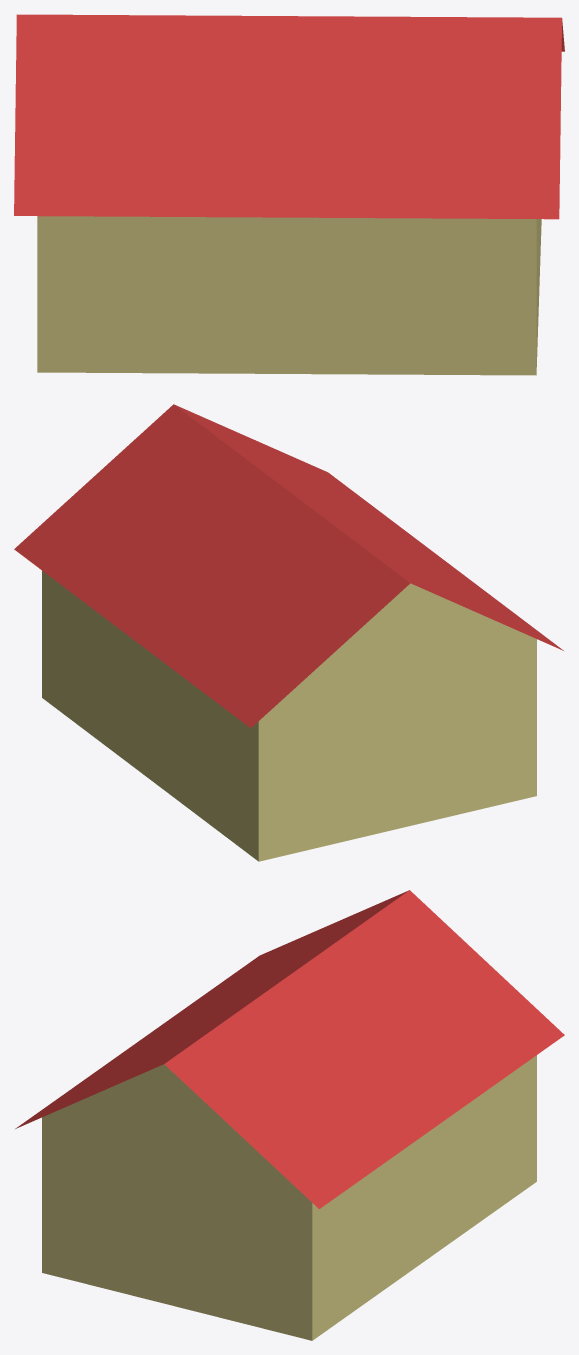
3 views of the same model, one above another, from view 1: azimuth 30°, elevation 25°; view 2: azimuth 150°, elevation 25°; view 3: azimuth 270°, elevation 25° (orthographic). The views are drawn at different scales.
Bounding box in the file's own units: 21.9 × 20.31 × 10.15.
